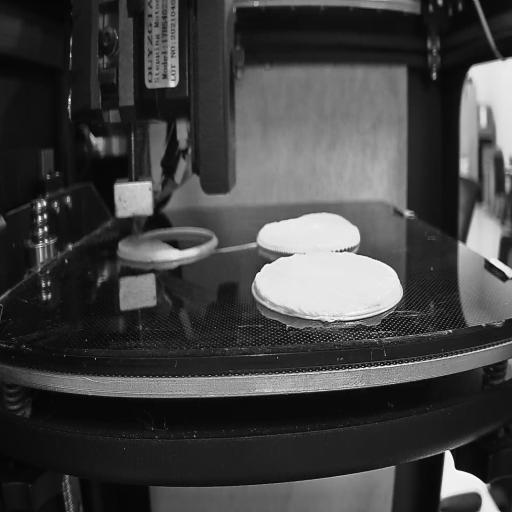over_extrusion: (254, 264, 275, 304)
